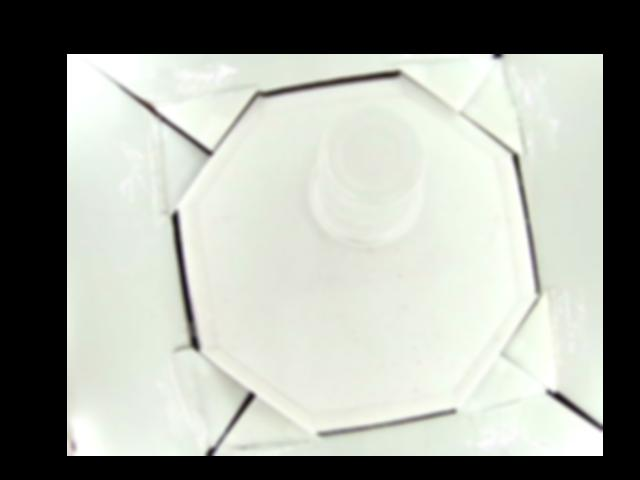Cup: (311, 105, 425, 243)
